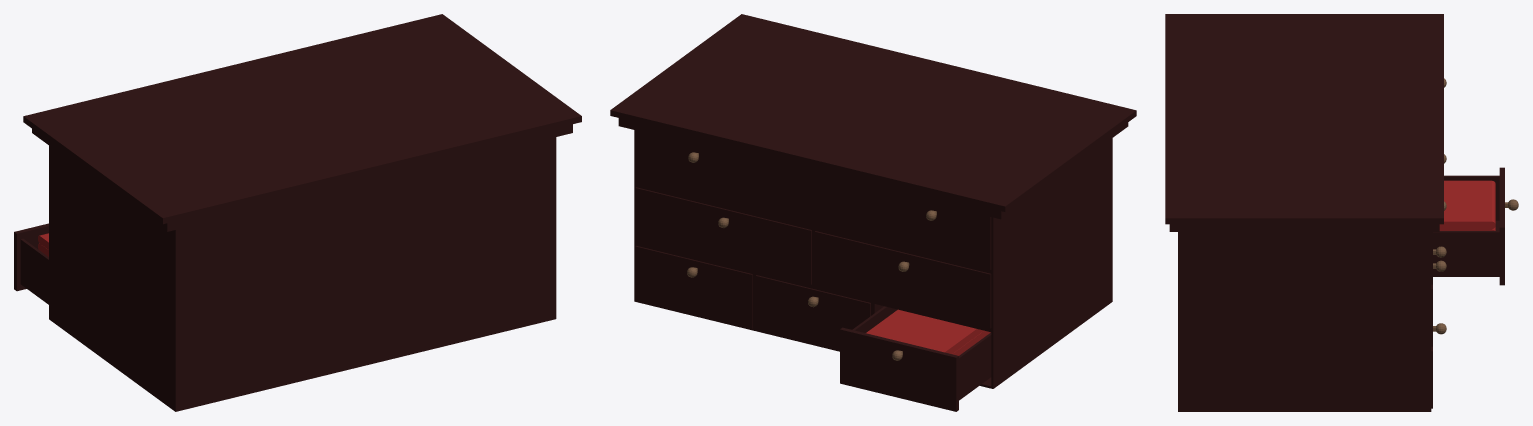
File: Hallway Furniture.fbx
3 renders of one model, left to right at view 1: azimuth 30°, elevation 25°; view 2: azimuth 150°, elevation 25°; view 3: azimuth 270°, elevation 25°, orthographic. The views are drawn at different scales.
Visible parts, largest first — view 1: hallway furniture; view 2: hallway furniture, knobs; view 3: hallway furniture, knobs.
Part boxes in pixels (x1,y1,x2,y2): hallway furniture: (14, 14, 581, 411); hallway furniture: (610, 14, 1136, 411); knobs: (687, 152, 936, 360); hallway furniture: (1165, 14, 1504, 411); knobs: (1433, 78, 1518, 334).
Bounding box in the file's own units: 279 × 382 × 177.
